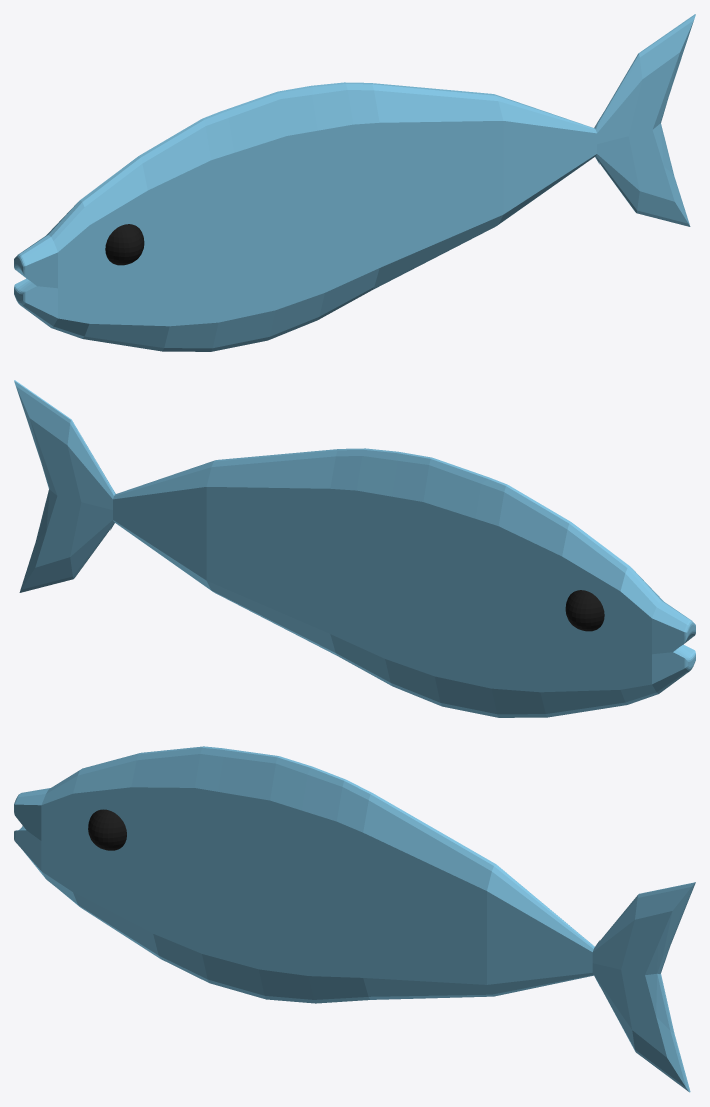
Rendered from tuna.fbx.
The picture shows the model from 3 angles, top to bottom: view 1: azimuth 30°, elevation 25°; view 2: azimuth 150°, elevation 25°; view 3: azimuth 330°, elevation 25°; orthographic projection.
Visible parts, largest first — view 1: Cube, Cube.001; view 2: Cube, Cube.001; view 3: Cube, Cube.001.
Boxes of the visible parts, <box> form: Cube: <box>14,14,695,351</box>; Cube.001: <box>105,224,144,265</box>; Cube: <box>14,380,695,717</box>; Cube.001: <box>565,590,604,631</box>; Cube: <box>14,746,695,1092</box>; Cube.001: <box>88,809,126,850</box>.
Bounding box in the file's own units: 462 × 42.59 × 159.
